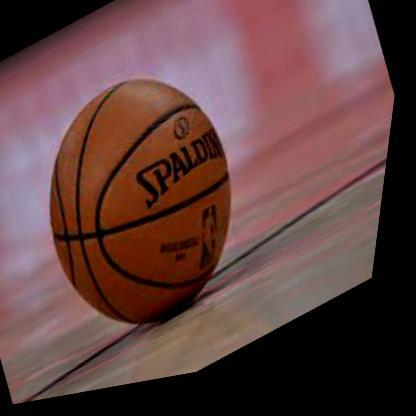basketball: (4, 37, 287, 376)
